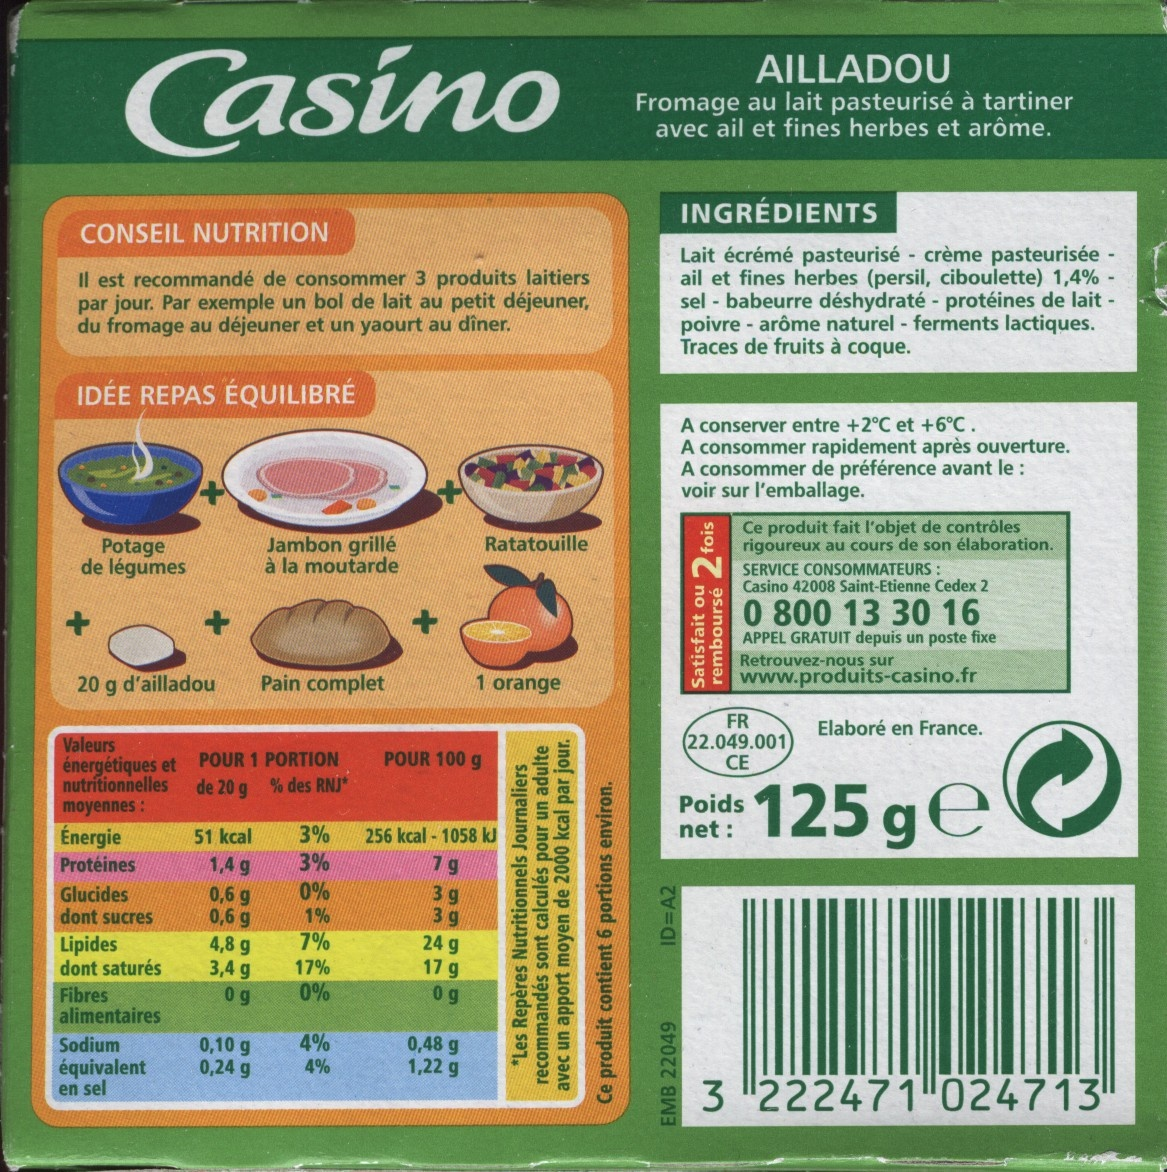column: (362, 736, 496, 1097), (60, 729, 178, 1101), (269, 736, 344, 1101), (191, 736, 259, 1100)
table: (50, 724, 589, 1109)
